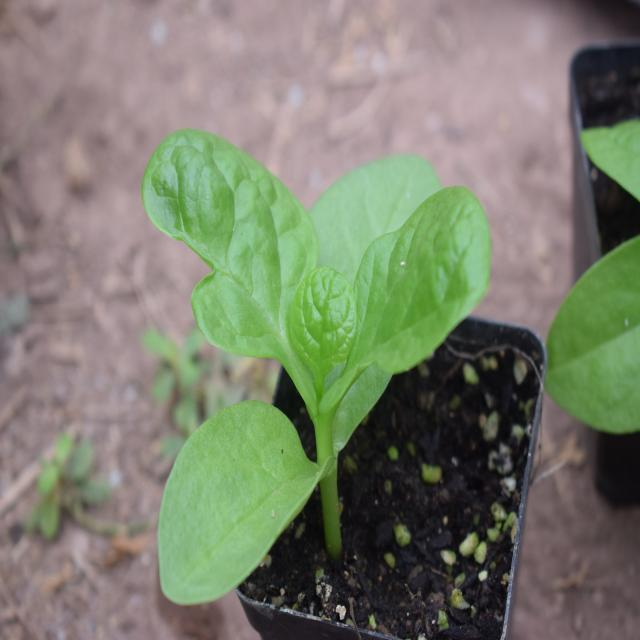Ceylon spinach: (134, 103, 475, 587)
